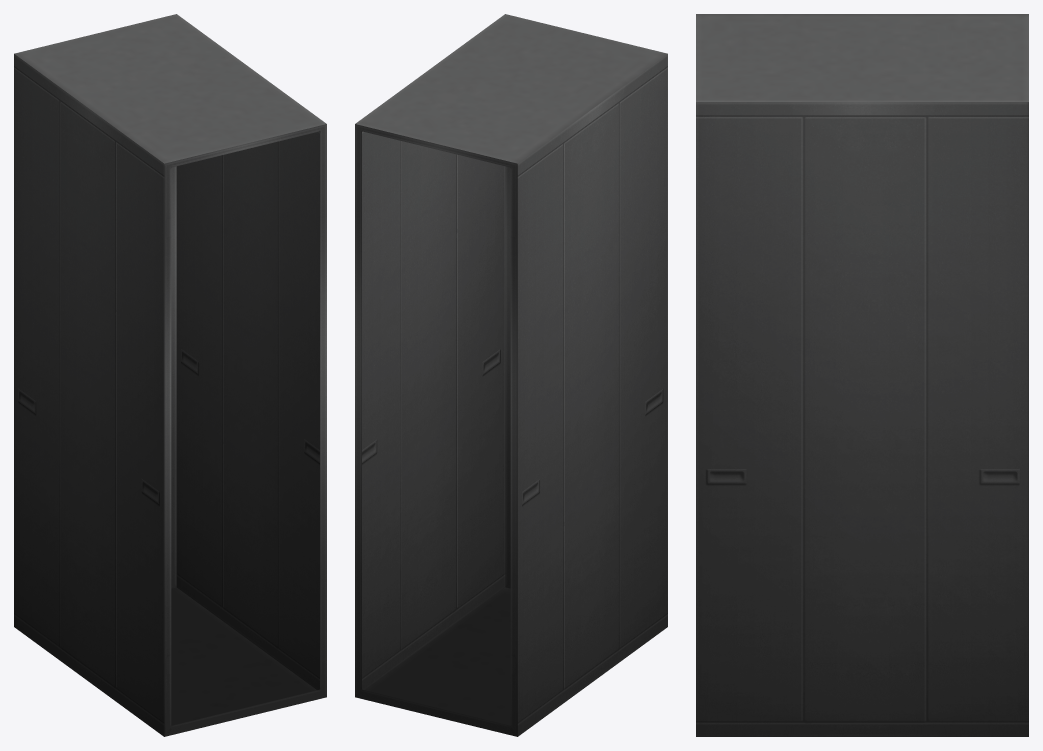
Rendered from jigui1.obj.
3 views of the same model, side by side, from view 1: azimuth 30°, elevation 25°; view 2: azimuth 150°, elevation 25°; view 3: azimuth 270°, elevation 25° (orthographic). The views are drawn at different scales.
Parts seen in each view (by area): view 1: default; view 2: default; view 3: default.
Part boxes in pixels (x1,y1,x2,y2): default: [14, 14, 326, 736]; default: [355, 14, 667, 736]; default: [696, 14, 1028, 736].
Bounding box in the file's own units: 60 × 202 × 96.
